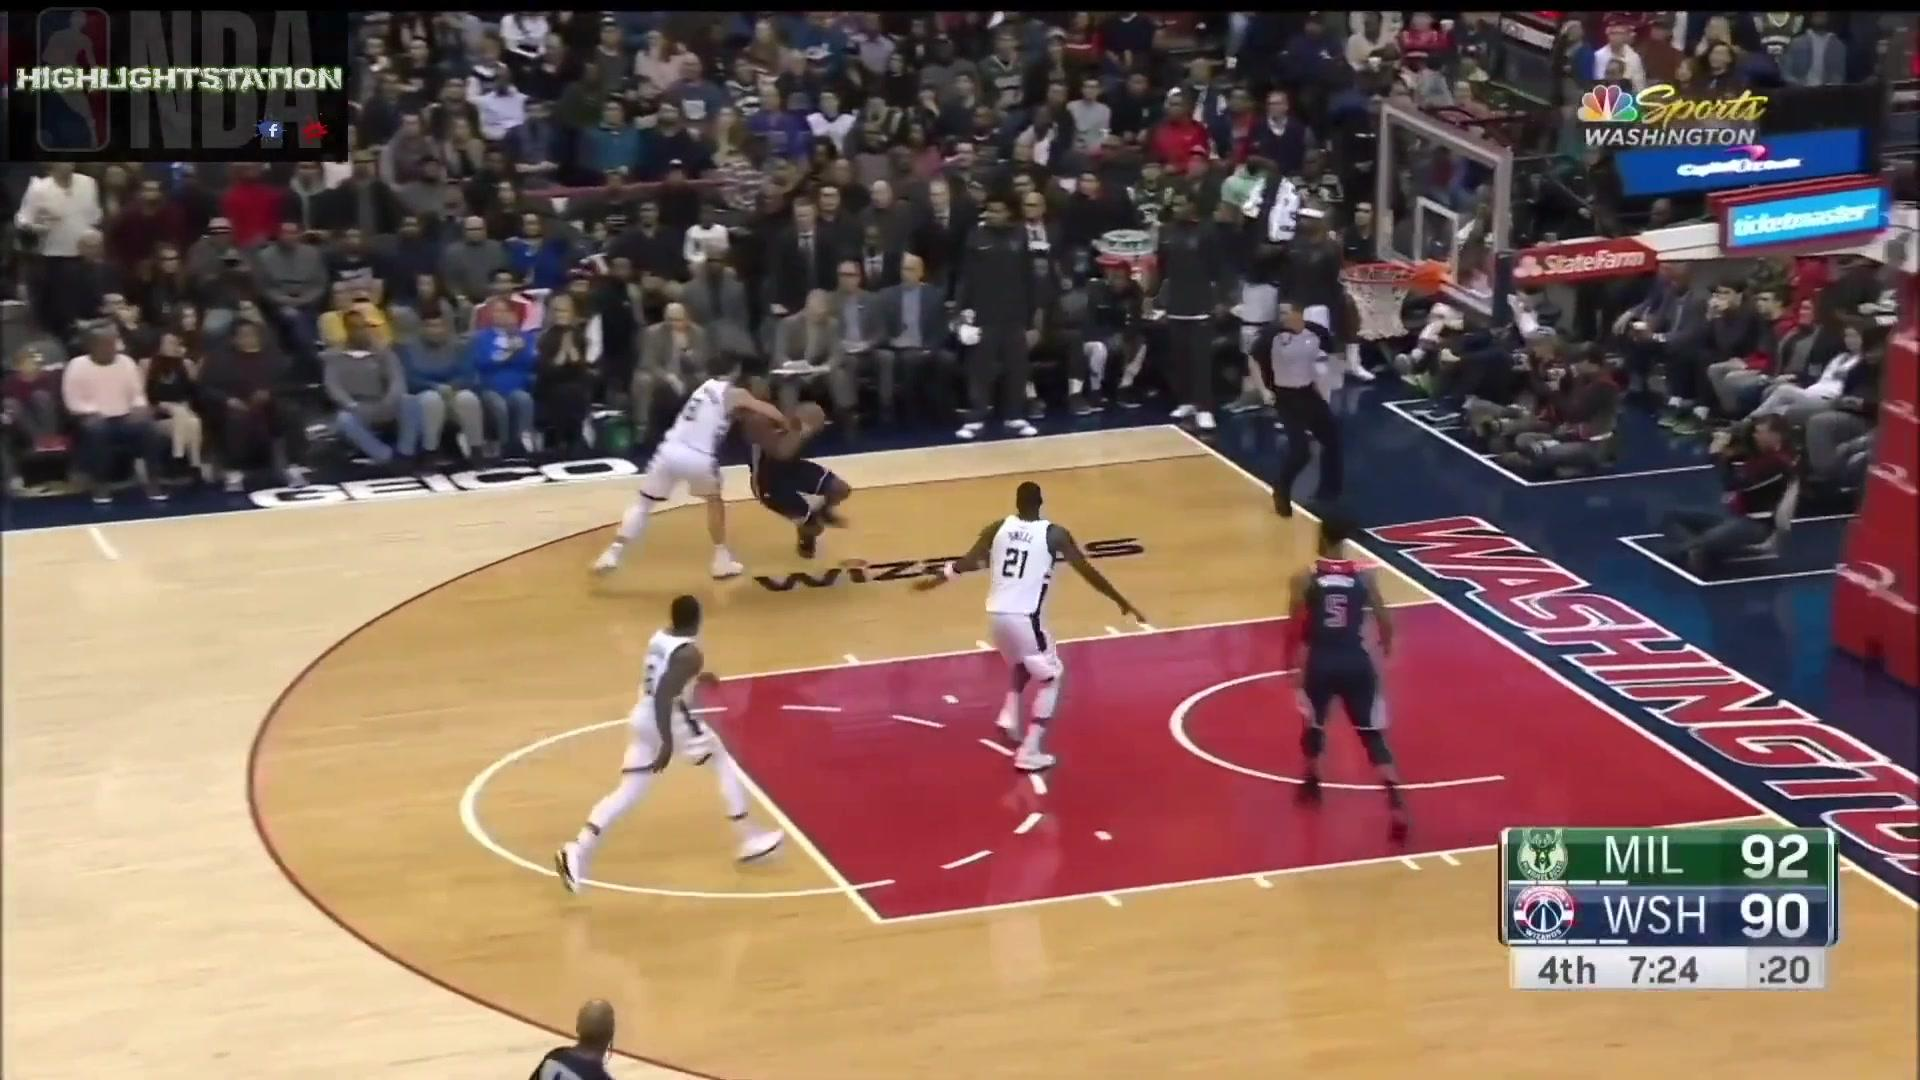foul: (599, 347, 876, 597)
